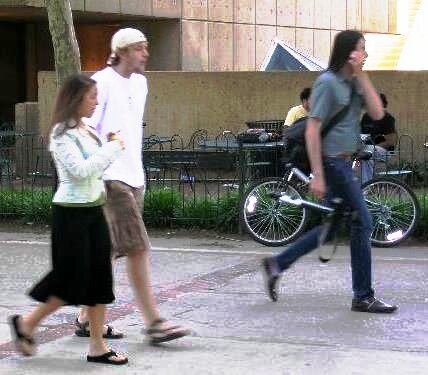person: (262, 30, 404, 319), (14, 68, 137, 364), (88, 22, 189, 352)
